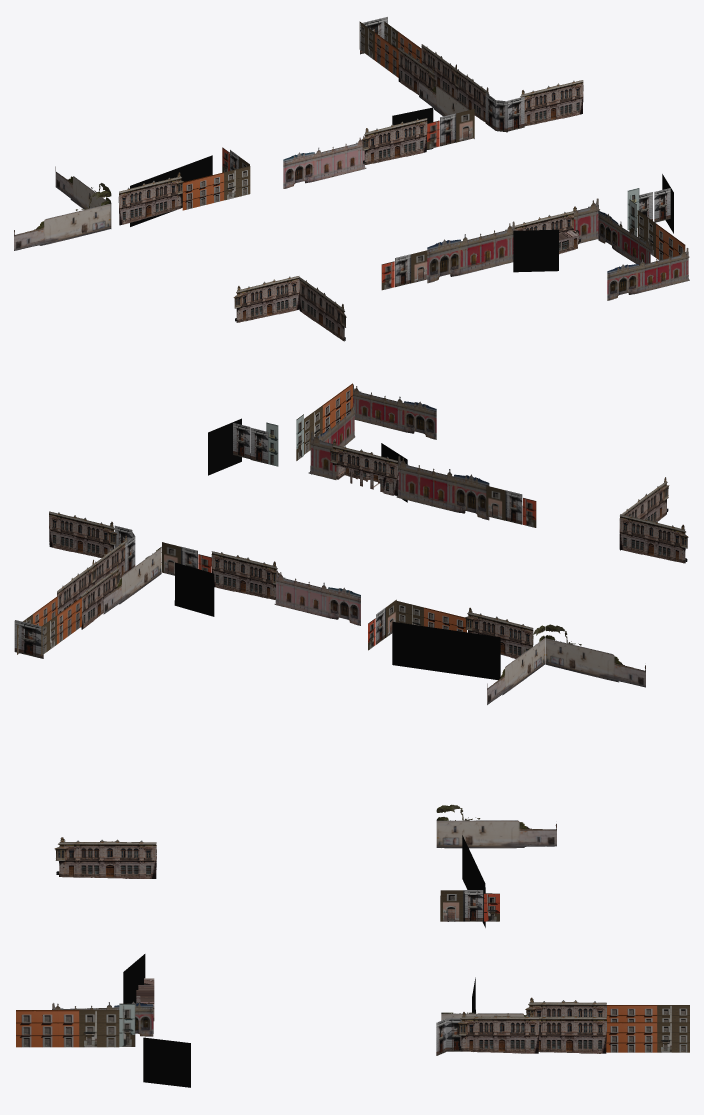
Rendered from TolosEdifisioh.fbx.
The picture shows the model from 3 angles, top to bottom: view 1: azimuth 30°, elevation 25°; view 2: azimuth 150°, elevation 25°; view 3: azimuth 270°, elevation 25°; orthographic projection. The views are drawn at different scales.
Visible parts, largest first — view 1: Fachada_02b, Fachada_03, Fachada_02_001, Fachada_02, Samborns_002, Samborns_001, Samborns, Samborns_001__1_, Fachada_01, Plane, Samborns_003, Fachada_02_001__1_ (+15 smaller); view 2: Plane__4_, Fachada_02b, Fachada_03, Fachada_02, Fachada_02_001, Samborns_002, Samborns_001__1_, Samborns_001, Samborns_004, Plane__3_, Samborns, Fachada_03_001 (+18 smaller); view 3: Fachada_01_001, Samborns_003, Fachada_03_001, Samborns_005, Fachada_01_002, Samborns_006, Plane__1_, Fachada_05, Fachada_01_003, Samborns_007, Fachada_02_001__1_, Plane (+2 smaller).
Part boxes in pixels (<box>): Fachada_02b: <box>427,221,514,283</box>; Fachada_03: <box>14,190,110,250</box>; Fachada_02_001: <box>607,248,689,300</box>; Fachada_02: <box>283,136,366,188</box>; Samborns_002: <box>233,276,299,322</box>; Samborns_001: <box>362,118,427,164</box>; Samborns: <box>118,172,184,225</box>; Samborns_001__1_: <box>520,80,583,126</box>; Fachada_01: <box>182,166,250,210</box>; Plane: <box>513,229,558,272</box>; Samborns_003: <box>299,277,346,341</box>; Fachada_02_001__1_: <box>598,210,651,265</box>; Plane__4_: <box>392,621,500,680</box>; Fachada_02b: <box>396,455,489,520</box>; Fachada_03: <box>545,624,645,687</box>; Fachada_02: <box>274,570,360,625</box>; Fachada_02_001: <box>353,384,436,439</box>; Samborns_002: <box>619,514,688,563</box>; Samborns_001__1_: <box>49,511,117,557</box>; Samborns_001: <box>211,551,279,599</box>; Samborns_004: <box>329,440,398,495</box>; Plane__3_: <box>174,562,214,616</box>; Samborns: <box>465,607,533,658</box>; Fachada_03_001: <box>487,625,544,704</box>; Fachada_01_001: <box>16,1010,119,1047</box>; Samborns_003: <box>54,837,156,878</box>; Fachada_03_001: <box>436,804,556,848</box>; Samborns_005: <box>458,1012,539,1053</box>; Fachada_01_002: <box>606,1022,689,1052</box>; Samborns_006: <box>529,1012,606,1053</box>; Plane__1_: <box>143,1037,190,1087</box>; Fachada_05: <box>440,890,499,921</box>; Fachada_01_003: <box>606,1005,689,1022</box>; Samborns_007: <box>525,997,606,1016</box>; Fachada_02_001__1_: <box>52,1001,153,1036</box>; Plane: <box>123,954,145,1003</box>.
Bounding box in the file's own units: 14446 × 1540 × 13702.
10 materials, 9 textured.
